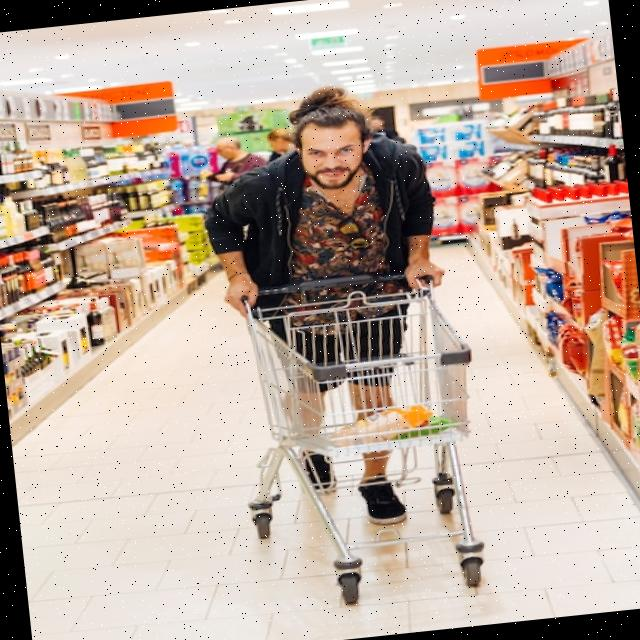Person: (192, 74, 468, 540)
